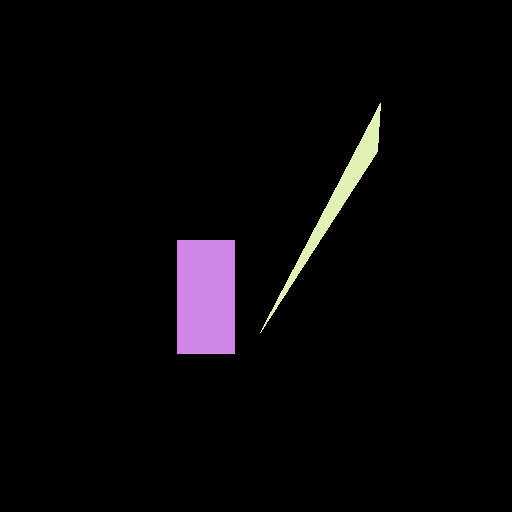rectangle: (177, 240, 234, 353)
triangle: (260, 103, 380, 332)
